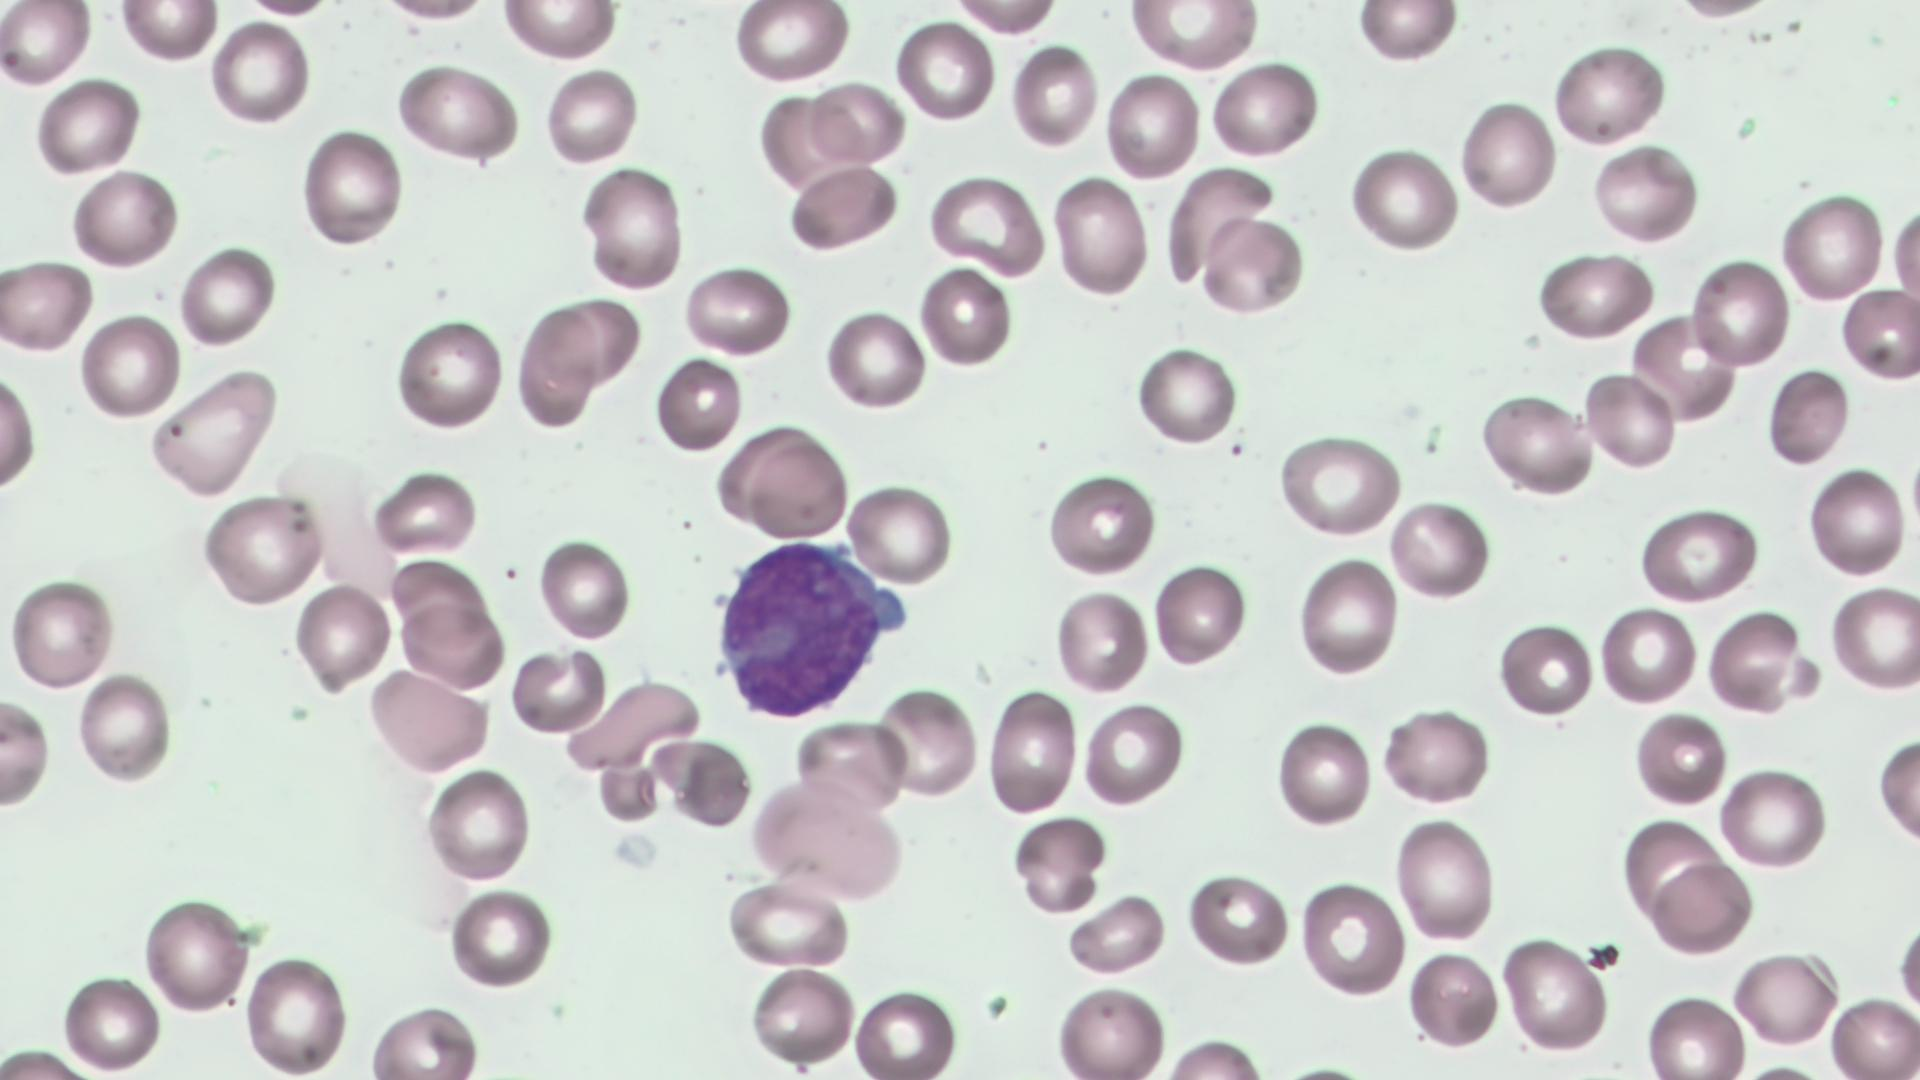RBC: (748, 779, 909, 901), (145, 367, 278, 498), (196, 491, 324, 609), (1274, 429, 1406, 541), (142, 889, 255, 1019), (392, 57, 522, 167), (1393, 810, 1498, 945), (392, 313, 506, 435), (580, 161, 686, 294), (243, 949, 352, 1077), (298, 121, 406, 251), (1162, 164, 1274, 286), (1499, 931, 1611, 1054), (1298, 876, 1406, 1002), (367, 666, 495, 773), (1345, 142, 1462, 258), (1549, 38, 1669, 152), (1296, 551, 1400, 680), (5, 574, 117, 694), (1776, 187, 1887, 309), (564, 676, 702, 774), (1476, 386, 1594, 498), (926, 170, 1046, 280), (425, 765, 533, 886), (1051, 171, 1151, 302), (1044, 467, 1156, 582), (1618, 814, 1726, 932), (872, 683, 980, 802), (982, 684, 1079, 818), (1803, 460, 1908, 582), (1205, 55, 1323, 164), (1634, 502, 1760, 603), (1716, 764, 1830, 873), (76, 309, 183, 425), (844, 480, 955, 591), (1379, 703, 1493, 811), (1458, 94, 1560, 214), (891, 13, 998, 127), (1131, 342, 1240, 452), (1687, 255, 1791, 369), (1273, 716, 1375, 832), (1534, 247, 1654, 345), (746, 964, 858, 1069), (208, 15, 313, 128), (291, 579, 393, 695), (1102, 69, 1203, 185), (790, 715, 909, 812), (1702, 607, 1811, 713), (69, 165, 178, 270), (1081, 698, 1185, 808), (512, 302, 603, 429), (1054, 980, 1170, 1079), (721, 880, 851, 968), (58, 968, 165, 1075), (444, 885, 553, 990), (749, 430, 848, 545), (74, 673, 171, 789), (1184, 868, 1294, 971), (32, 74, 142, 175), (1630, 311, 1735, 417), (822, 306, 928, 410), (1590, 144, 1698, 247), (1730, 948, 1840, 1050), (175, 243, 277, 352), (535, 531, 634, 644), (1199, 212, 1304, 316), (1387, 497, 1491, 603), (916, 262, 1015, 372), (1054, 585, 1150, 698), (731, 0, 855, 87), (680, 262, 794, 357), (1153, 559, 1249, 670), (1007, 40, 1100, 154), (851, 985, 963, 1079), (1598, 603, 1700, 705), (754, 92, 856, 194), (1581, 367, 1680, 471), (1495, 618, 1596, 720), (785, 162, 898, 252), (541, 65, 642, 164), (1650, 858, 1753, 956), (1404, 947, 1501, 1051), (1634, 708, 1730, 812), (1826, 584, 1917, 692), (367, 467, 476, 556), (397, 600, 508, 688), (537, 295, 640, 390), (650, 352, 744, 456), (1124, 1, 1262, 71), (1640, 988, 1749, 1076), (1010, 815, 1106, 913), (506, 644, 607, 736), (363, 1001, 481, 1077), (1762, 365, 1850, 467), (1063, 890, 1168, 975), (3, 257, 94, 353), (804, 78, 905, 164), (0, 3, 95, 91), (1826, 993, 1917, 1077), (497, 1, 620, 63), (1840, 287, 1917, 385), (670, 740, 753, 829), (1352, 0, 1462, 66), (117, 1, 219, 65), (0, 694, 51, 812), (0, 357, 40, 502), (1874, 731, 1917, 852), (1887, 190, 1920, 322), (945, 0, 1062, 37)
WBC: (709, 535, 909, 723)
